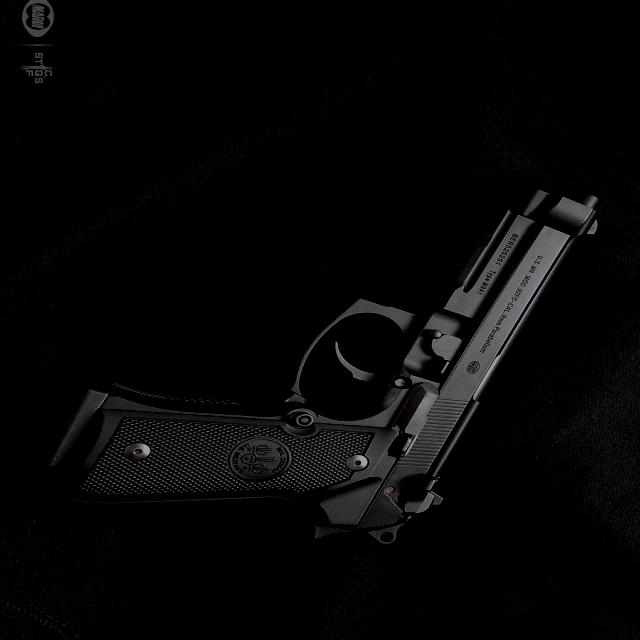handgun: (13, 181, 609, 551)
